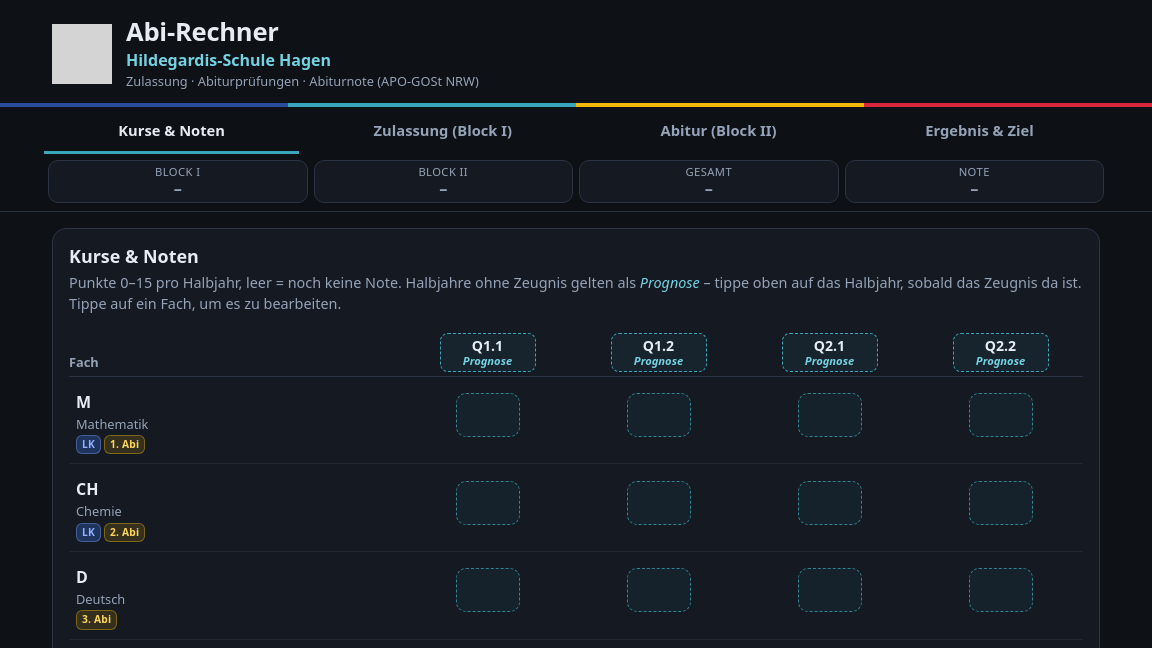
it: App (Smoke-Test) › rendert alle vier Bereiche ohne Fehler
The width and height of the screenshot is (1152, 648).
Click the link "Zulassung (Block I)" at (443, 130), box left=374, top=120, right=512, bottom=140
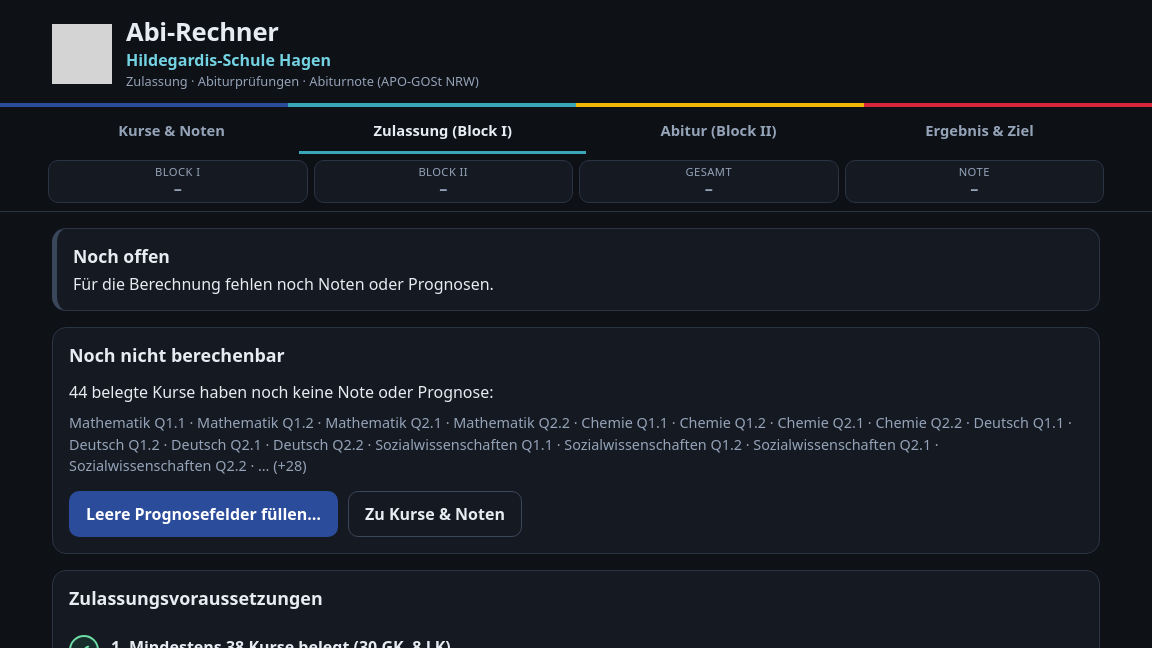
Expected: the heading "Zulassungsvoraussetzungen" is shown, left=69, top=586, right=323, bottom=610
Click the link "Abitur (Block II)" at (719, 130), box left=661, top=120, right=777, bottom=140
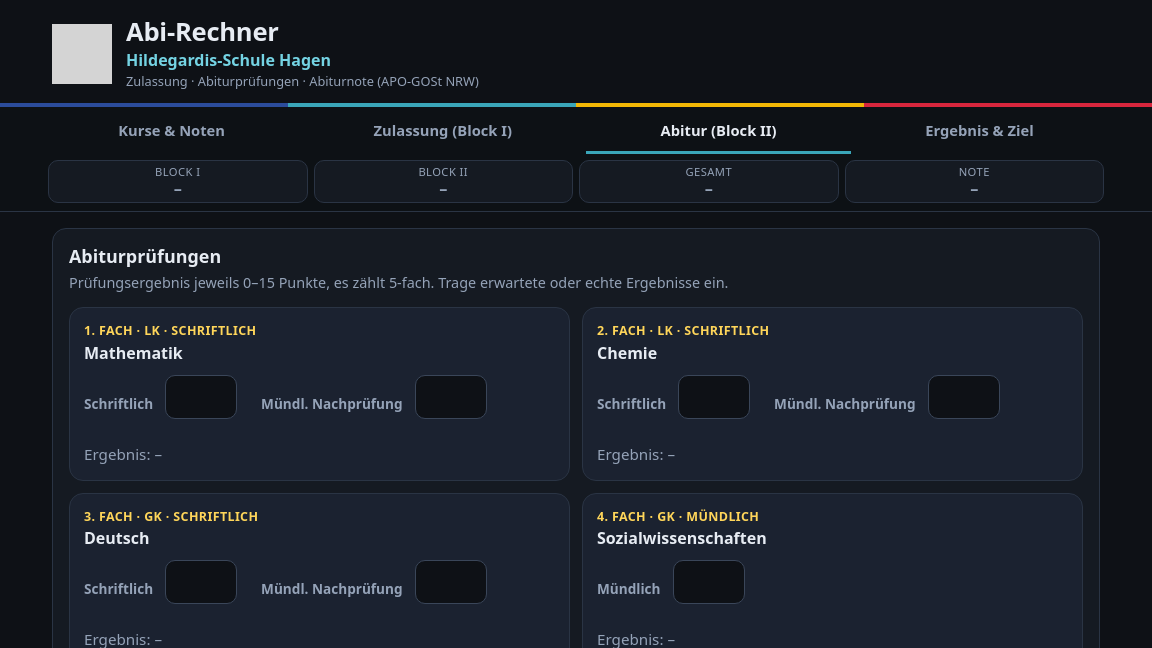
Expected: the heading "Abiturprüfungen" is shown, left=69, top=244, right=221, bottom=268
Click the link "Ergebnis & Ziel" at (979, 130), box left=925, top=120, right=1034, bottom=140
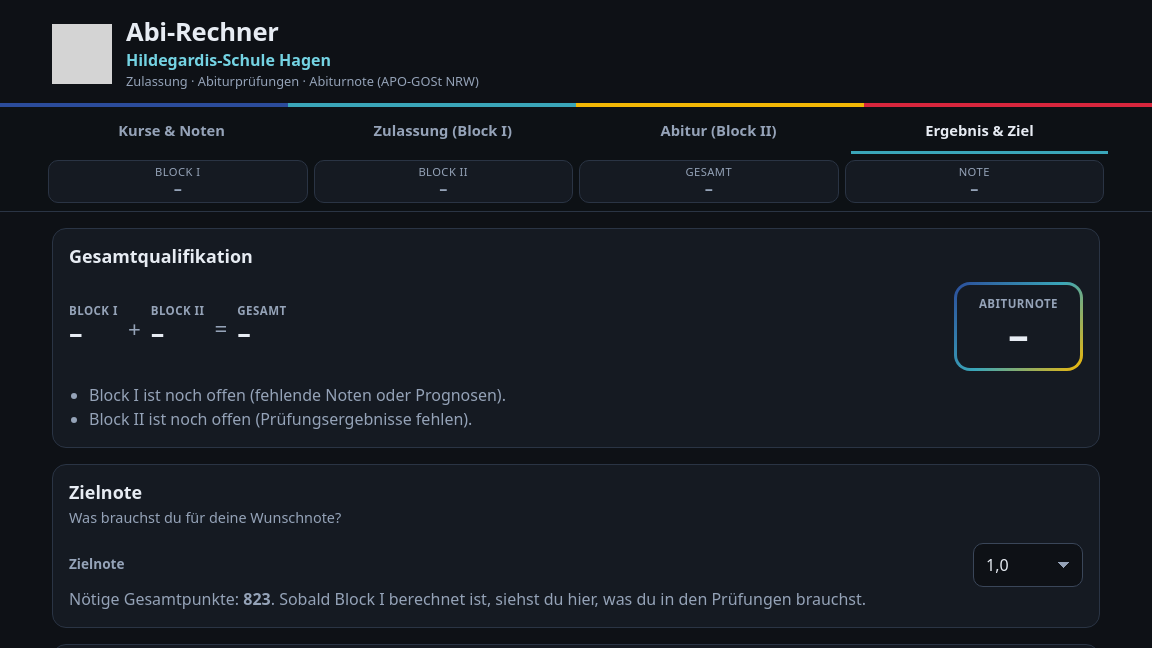
Expected: the heading "Gesamtqualifikation" is shown, left=69, top=244, right=253, bottom=268
Click the link "Kurse & Noten" at (172, 130), box left=118, top=120, right=225, bottom=140
(page scrolled)
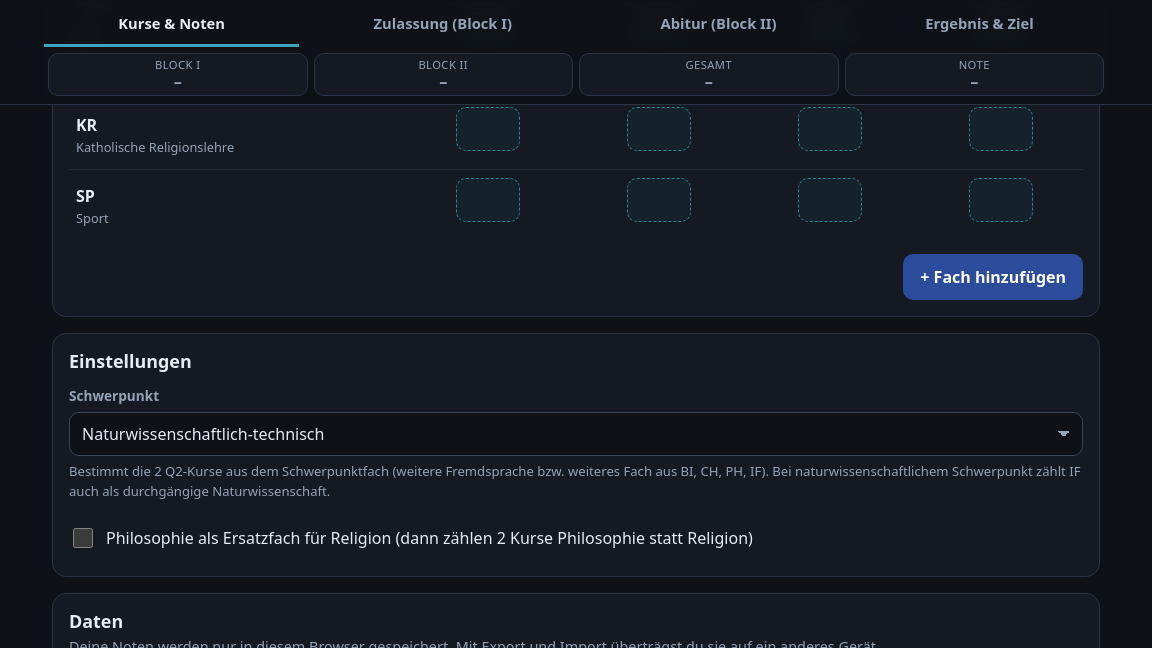
Expected: the heading "Einstellungen" is shown, left=69, top=349, right=192, bottom=373
